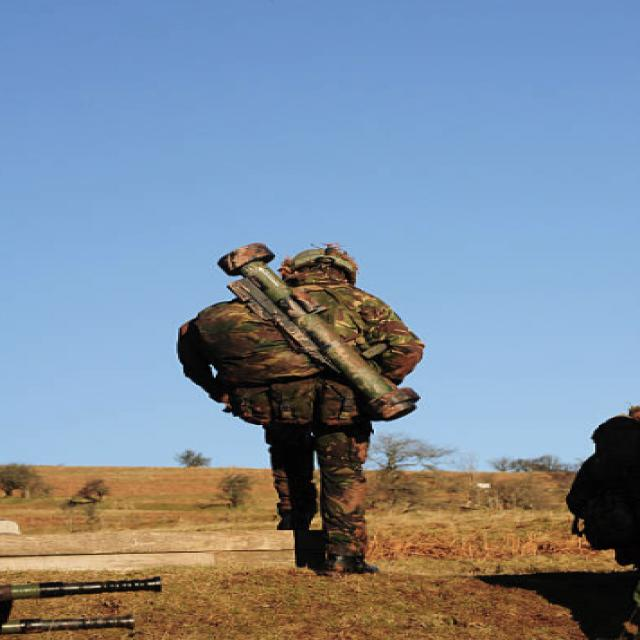bazooka: (203, 232, 431, 432)
